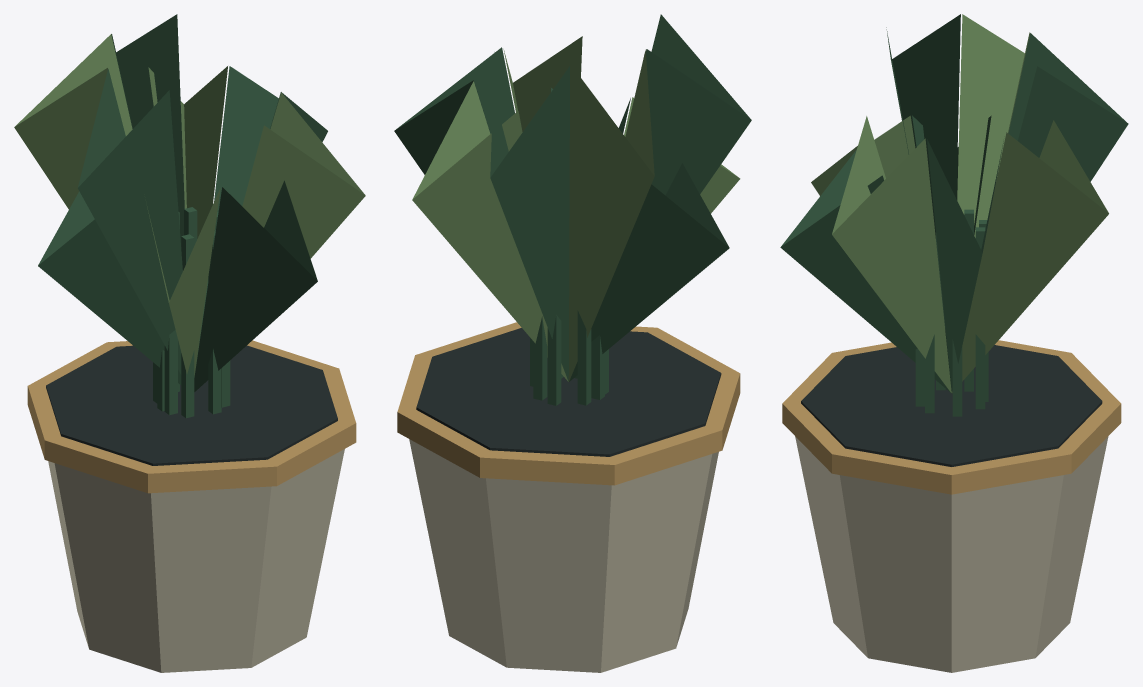
Rendered from LP_Central_PlanterSW.fbx.
The picture shows the model from 3 angles, left to right: view 1: azimuth 30°, elevation 25°; view 2: azimuth 150°, elevation 25°; view 3: azimuth 270°, elevation 25°; orthographic projection. The views are drawn at different scales.
Visible parts, largest first — view 1: LeafForest, M_Central_Limestone, LeafSage, Charcoal, AgedBrass; view 2: M_Central_Limestone, LeafForest, LeafSage, Charcoal, AgedBrass; view 3: M_Central_Limestone, LeafSage, LeafForest, Charcoal, AgedBrass.
Part boxes in pixels (<box>): LeafForest: <box>38,14,327,418</box>; M_Central_Limestone: <box>48,449,344,672</box>; LeafSage: <box>14,34,365,376</box>; Charcoal: <box>46,345,337,465</box>; AgedBrass: <box>27,340,356,493</box>; M_Central_Limestone: <box>409,439,718,672</box>; LeafForest: <box>394,14,751,405</box>; LeafSage: <box>412,36,740,381</box>; Charcoal: <box>416,327,721,456</box>; AgedBrass: <box>397,322,740,485</box>; M_Central_Limestone: <box>795,436,1108,672</box>; LeafSage: <box>811,14,1108,392</box>; LeafForest: <box>780,14,1128,416</box>; Charcoal: <box>801,345,1102,466</box>; AgedBrass: <box>782,340,1121,494</box>.
Size of the model in its own units: 65.5 by 117 by 64.74.
